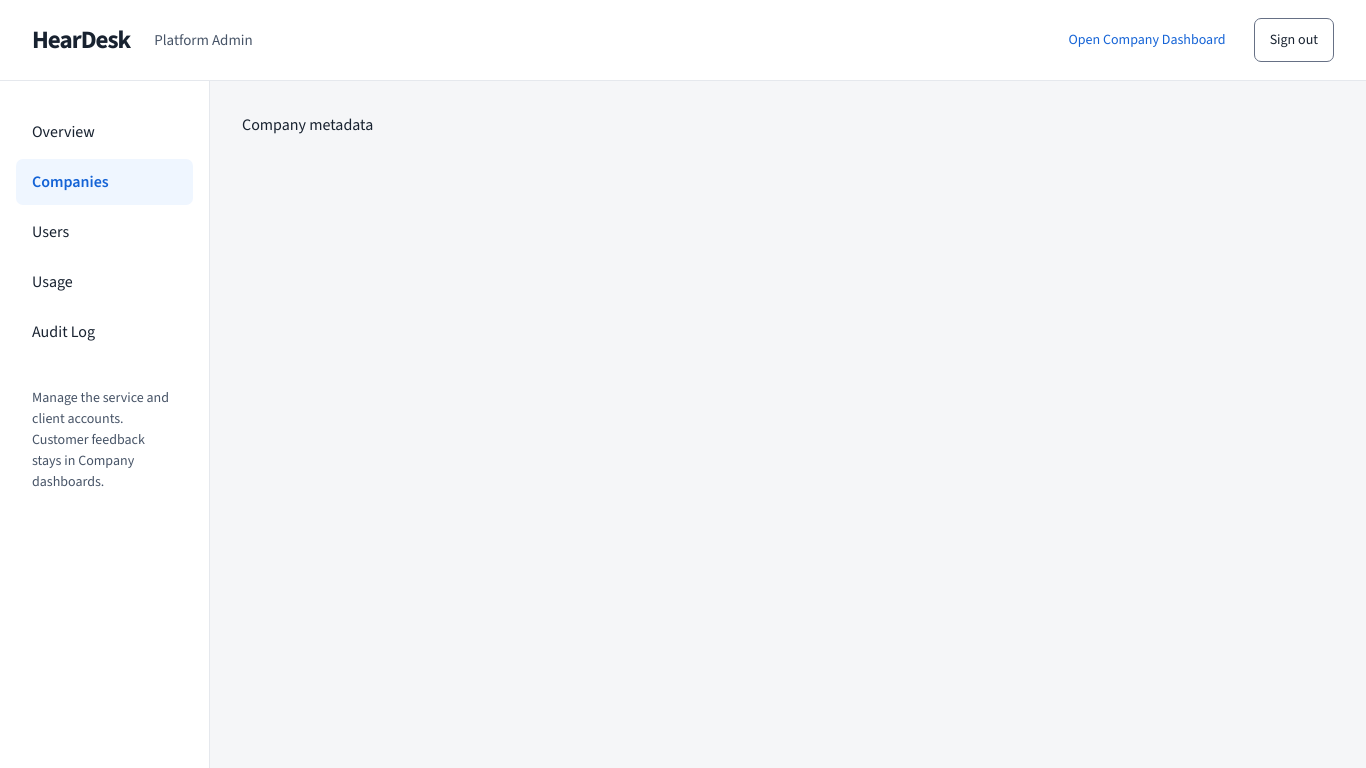
Test: marks nested Company platform pages active and offers retry after sign-out failure
Click the button "Sign out" at (1294, 40), box [1254, 18, 1334, 62]
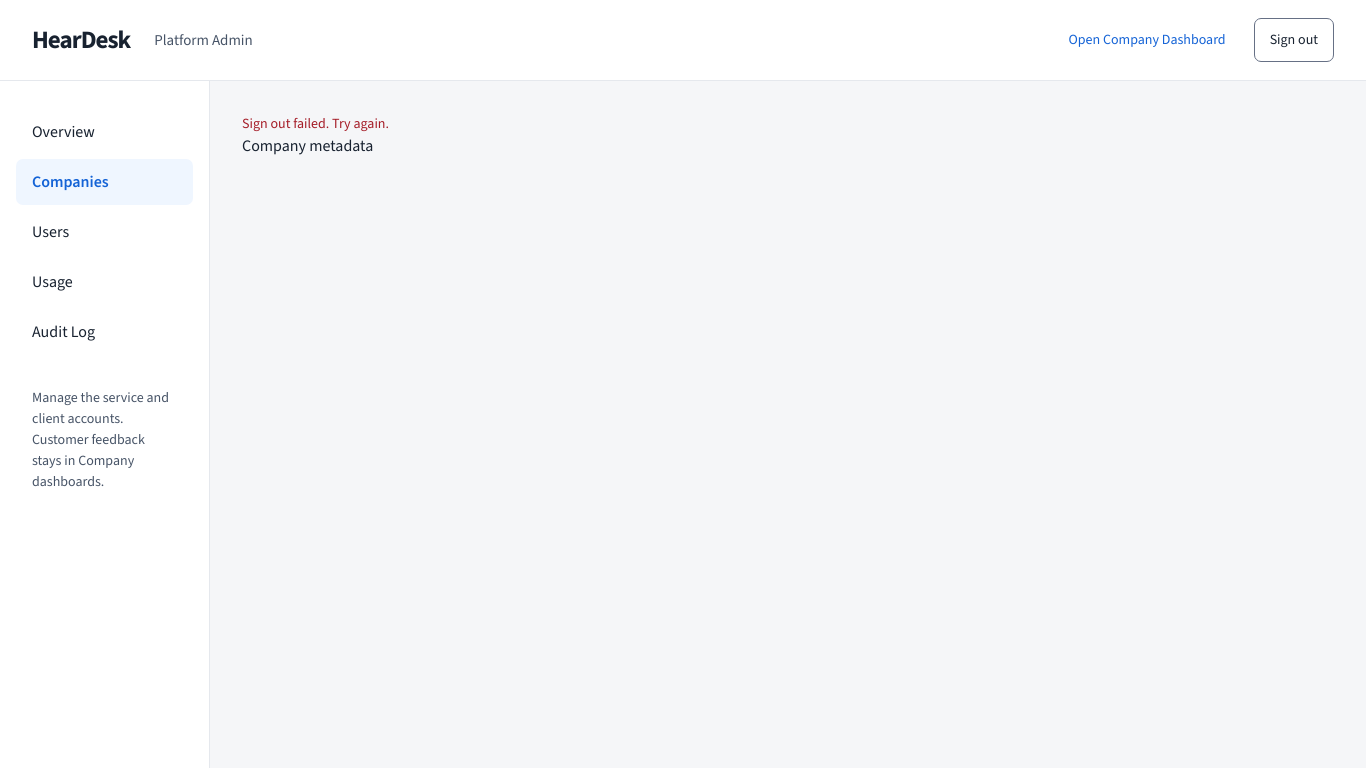
Check: the message shows "Sign out failed", box [242, 114, 389, 133]
